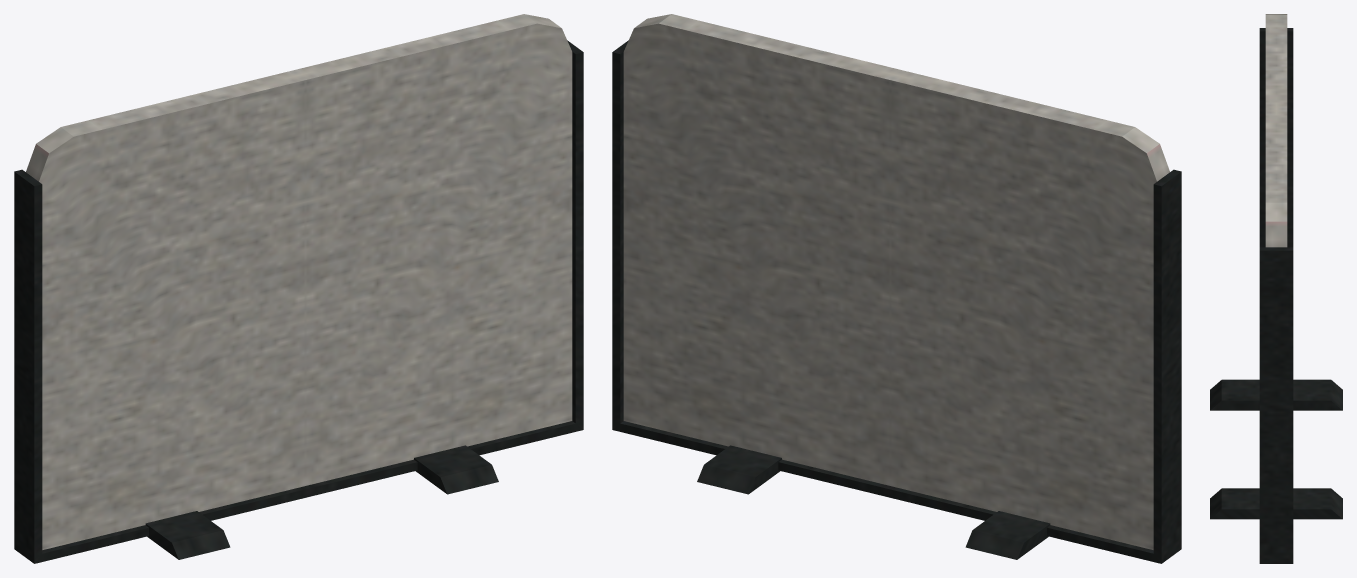
The model's file is divider_black_low_half.fbx.
The picture shows the model from 3 angles, left to right: view 1: azimuth 30°, elevation 25°; view 2: azimuth 150°, elevation 25°; view 3: azimuth 270°, elevation 25°; orthographic projection. The views are drawn at different scales.
Visible parts, largest first — view 1: divider_black_low_half; view 2: divider_black_low_half; view 3: divider_black_low_half.
Boxes of the visible parts, box(x1,y1,x2,y2) form: divider_black_low_half: box(14, 14, 583, 563); divider_black_low_half: box(612, 14, 1181, 563); divider_black_low_half: box(1210, 14, 1342, 563).
Size of the model in its own units: 207 by 150 by 52.3.
Materials: 1 (1 with a texture image).
